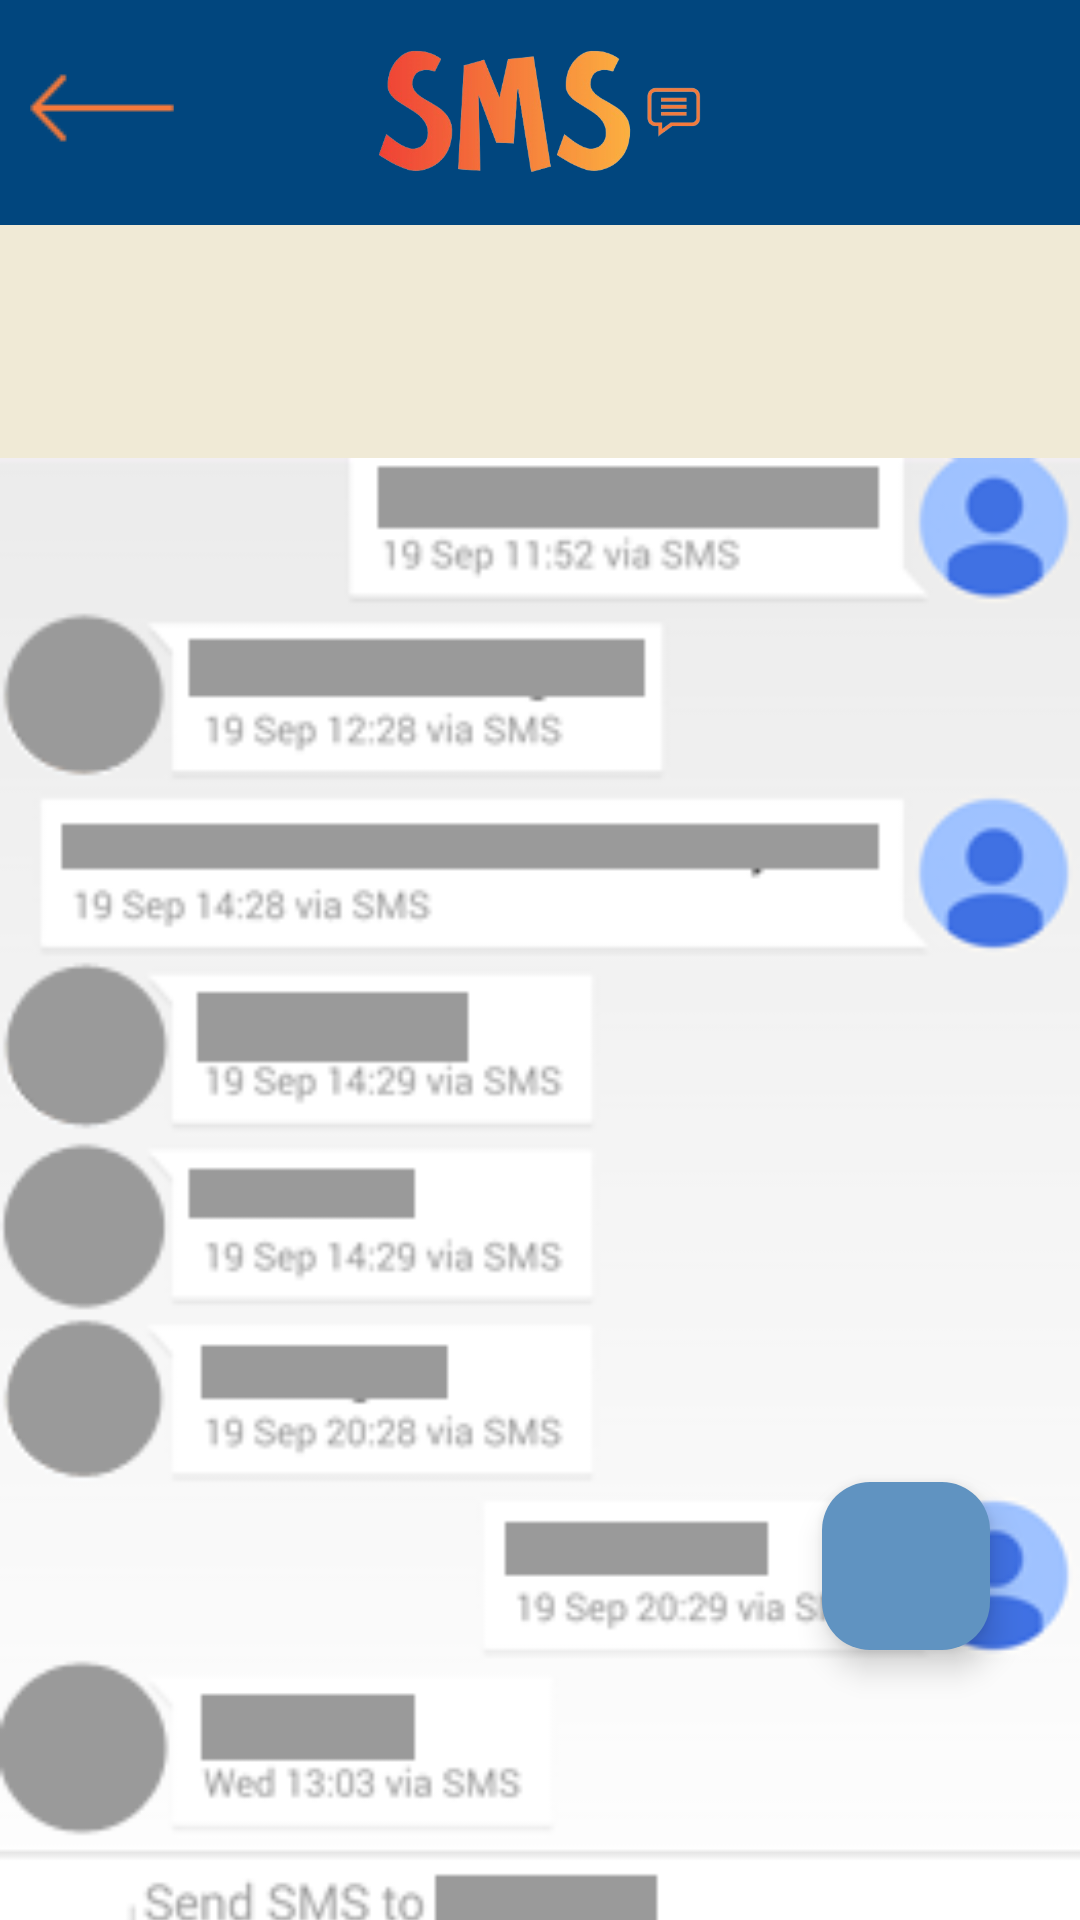

Icon click points for this 1080x1920 phone screenshot, format (x=x, y=y):
back: (x=102, y=108)
